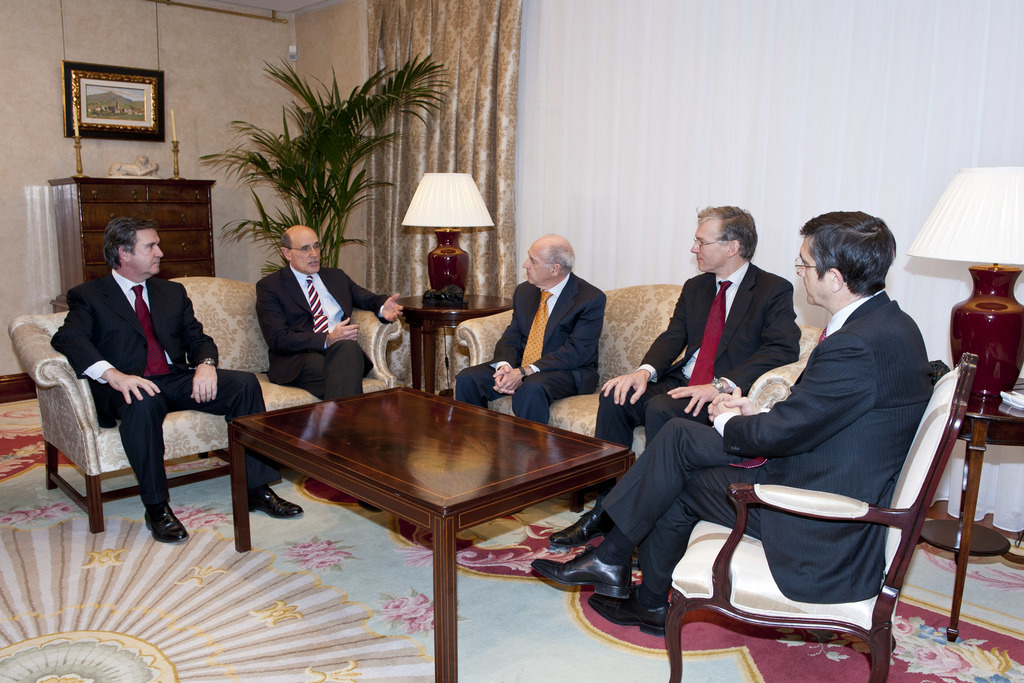Footwear: (571, 532, 721, 665), (530, 541, 635, 604), (545, 505, 616, 548), (139, 500, 190, 543), (246, 486, 304, 514)
